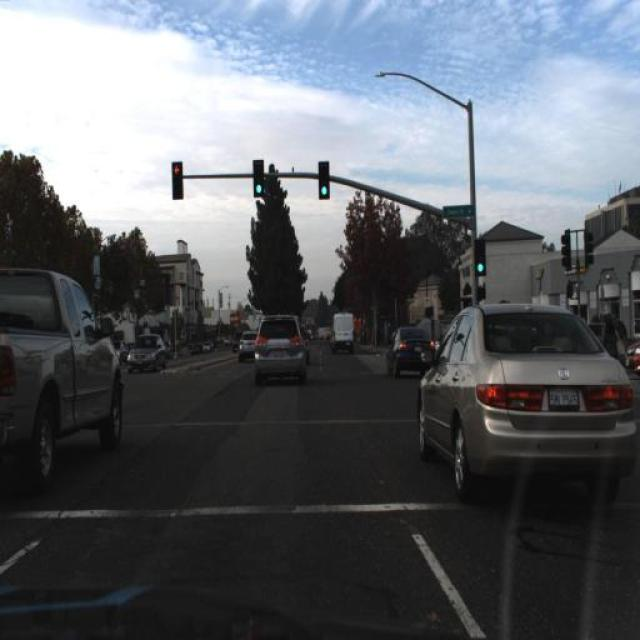car: (414, 297, 638, 508), (0, 250, 128, 512), (248, 306, 310, 392), (382, 319, 438, 385), (124, 330, 171, 380), (325, 303, 361, 365), (235, 321, 259, 371), (331, 312, 355, 348), (236, 324, 256, 365), (189, 342, 200, 358), (202, 339, 214, 353)
trafficLight: (603, 302, 629, 392)
trafficLight-Green: (168, 156, 188, 204), (314, 157, 334, 205), (250, 154, 268, 202), (474, 242, 488, 278)
trafficLight-GreenLeft: (469, 234, 488, 280)
